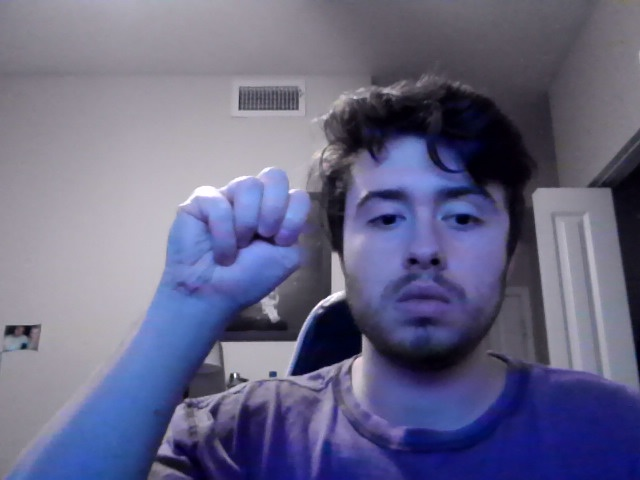m: (164, 165, 311, 321)
